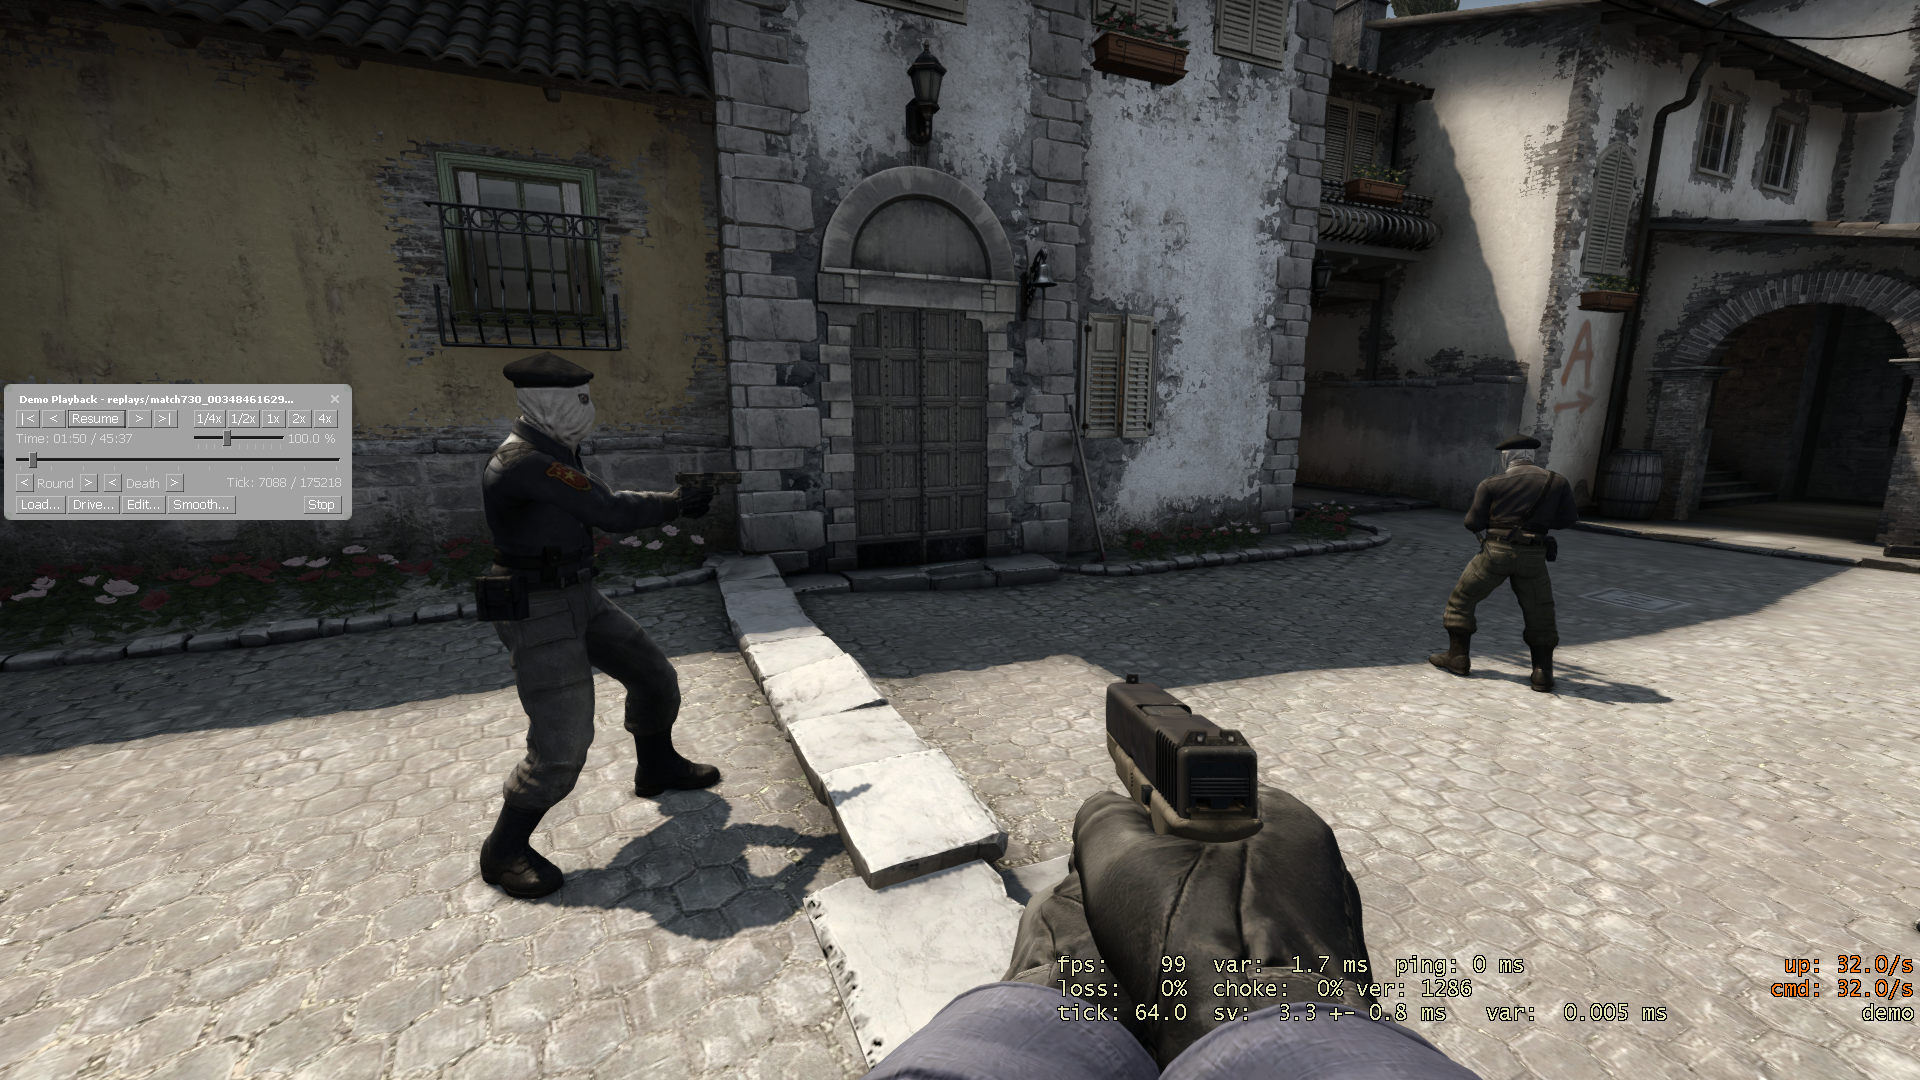t: (469, 351, 721, 899), (1427, 433, 1575, 691)
